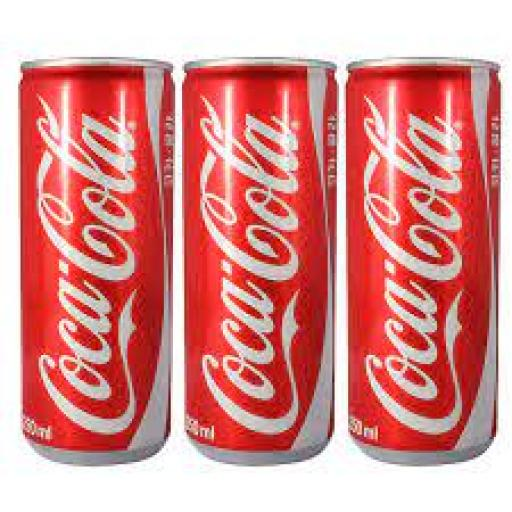Coca: (12, 44, 177, 470), (182, 44, 340, 476), (342, 44, 502, 468)
